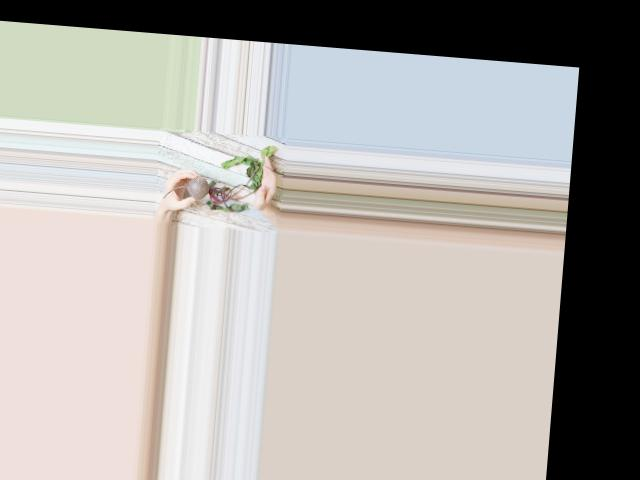beet: (162, 137, 276, 214)
